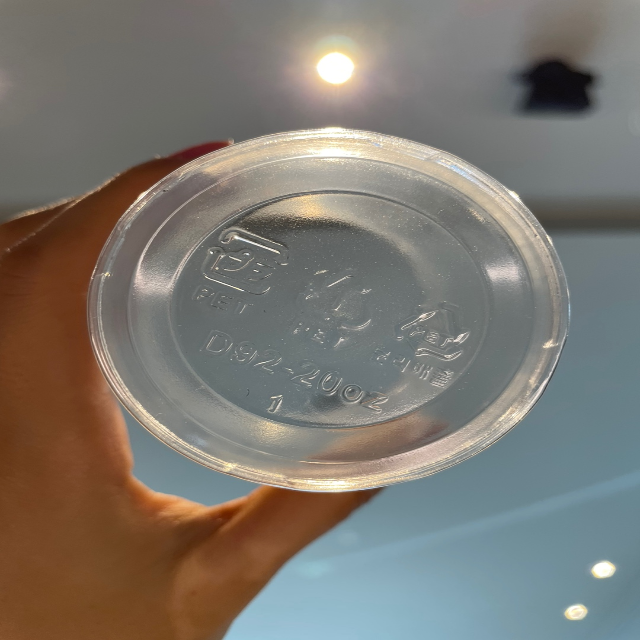pet: (372, 291, 486, 389), (185, 220, 290, 322), (283, 250, 380, 353)
